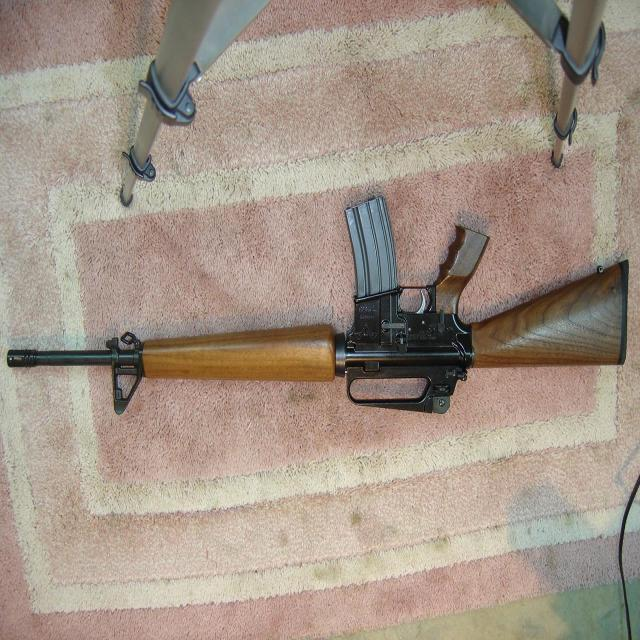weapon: (9, 197, 632, 416)
